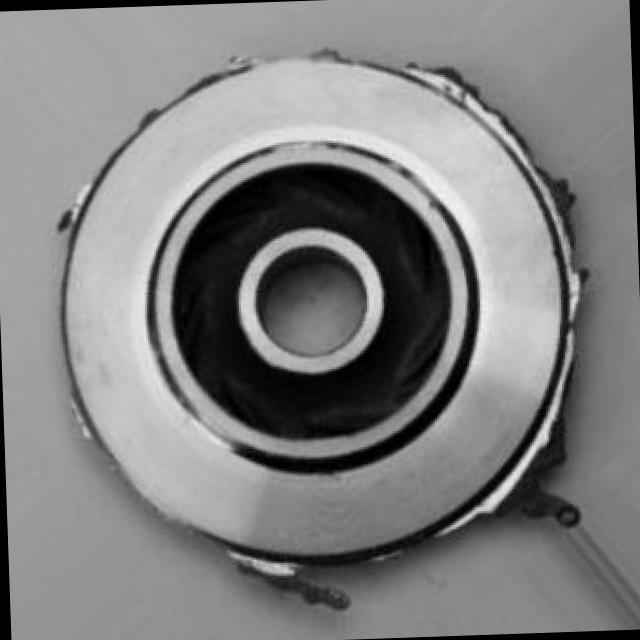Defect: (510, 432, 568, 498)
